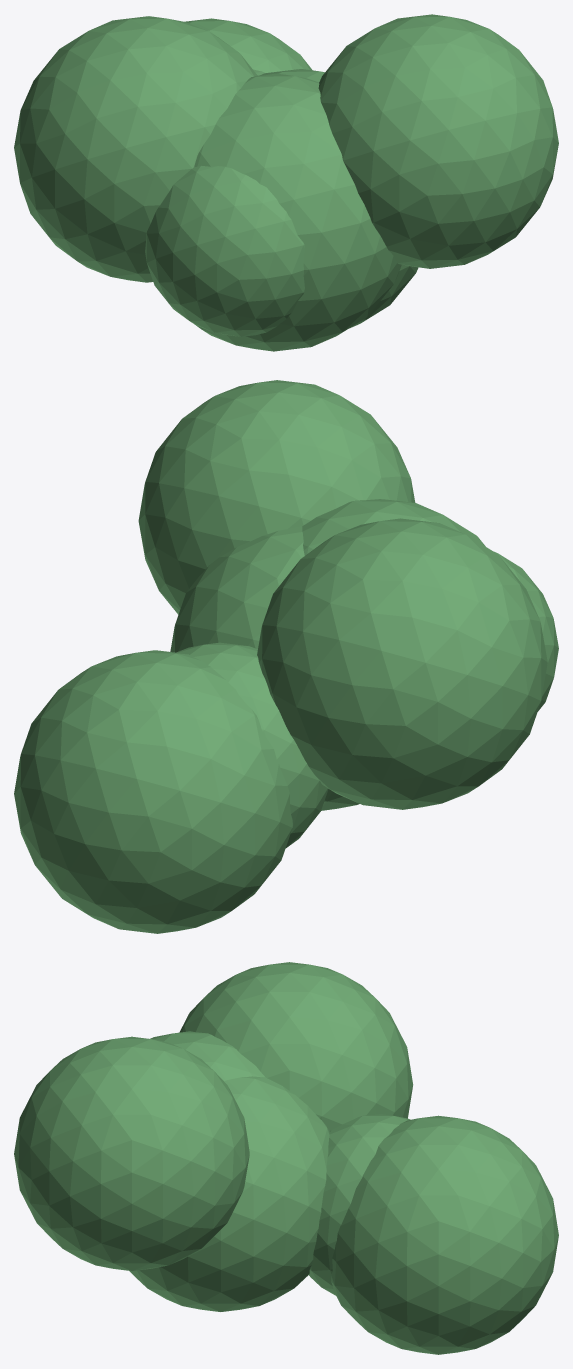
File: dry_bush.glb
3 renders of one model, top to bottom at view 1: azimuth 30°, elevation 25°; view 2: azimuth 150°, elevation 25°; view 3: azimuth 270°, elevation 25°, orthographic. The views are drawn at different scales.
Visible parts, largest first — view 1: bush_0_1, bush_0_5, bush_0_3, bush_0_6, bush_0_4, bush_0_0; view 2: bush_0_5, bush_0_4, bush_0_1, bush_0_0, bush_0_2, bush_0_3, bush_0_6; view 3: bush_0_1, bush_0_4, bush_0_5, bush_0_0, bush_0_2, bush_0_3.
Boxes of the visible parts, x1,y1,x2,y2 form: bush_0_1: (318, 14, 558, 268); bush_0_5: (14, 16, 257, 282); bush_0_3: (194, 73, 401, 351); bush_0_6: (145, 166, 304, 336); bush_0_4: (184, 18, 312, 72); bush_0_0: (260, 69, 418, 328); bush_0_5: (257, 518, 547, 809); bush_0_4: (14, 650, 292, 933); bush_0_1: (138, 380, 415, 614); bush_0_0: (170, 526, 359, 810); bush_0_2: (176, 642, 328, 848); bush_0_3: (302, 499, 485, 555); bush_0_6: (494, 551, 558, 711); bush_0_1: (14, 1036, 249, 1270); bush_0_4: (331, 1115, 558, 1354); bush_0_5: (179, 962, 413, 1131); bush_0_0: (129, 1076, 329, 1311); bush_0_2: (308, 1114, 410, 1295); bush_0_3: (150, 1031, 265, 1080).
Bounding box in the file's own units: 0.9608 × 0.7539 × 1.16.
